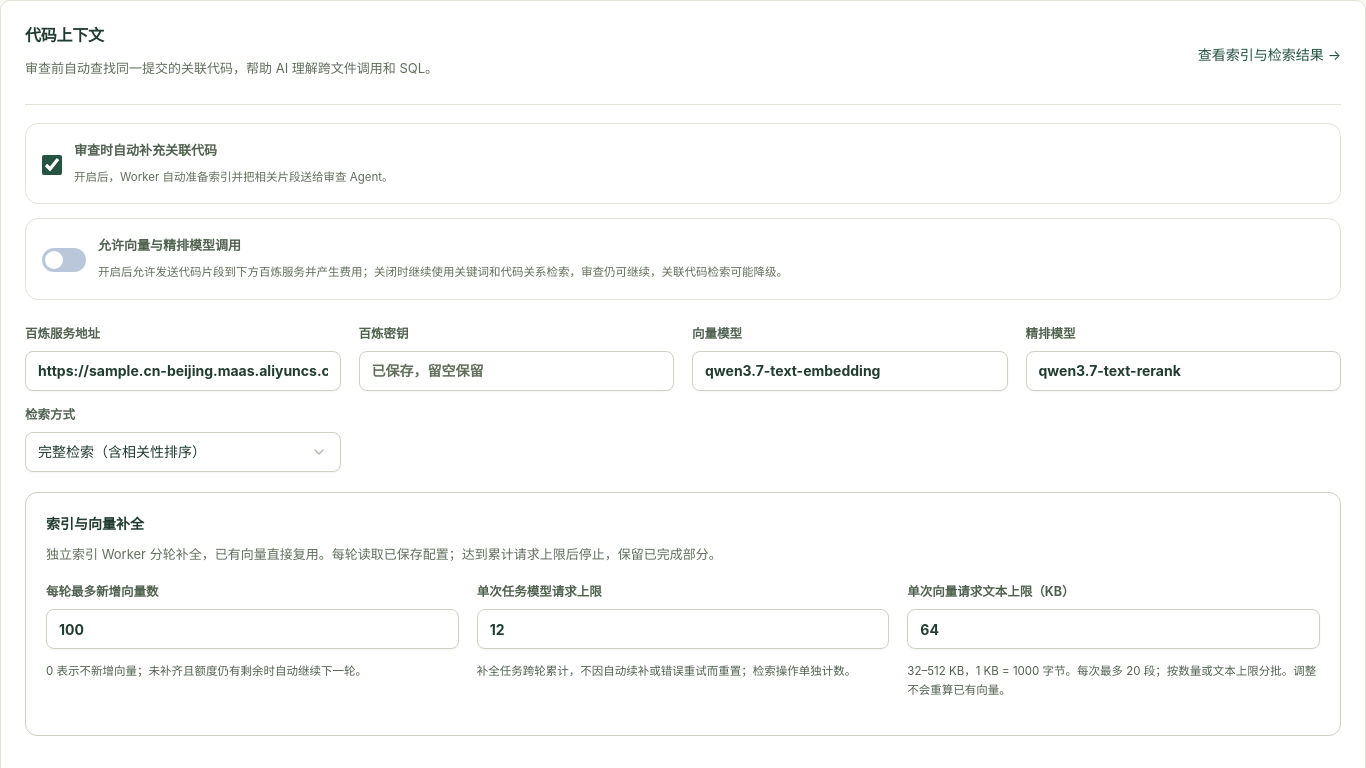
it: 页面开关保存明确的开启值，不再依赖服务器默认暂停
Step 1. Click the switch → (64, 260), box [42,248,86,272]
(page scrolled)
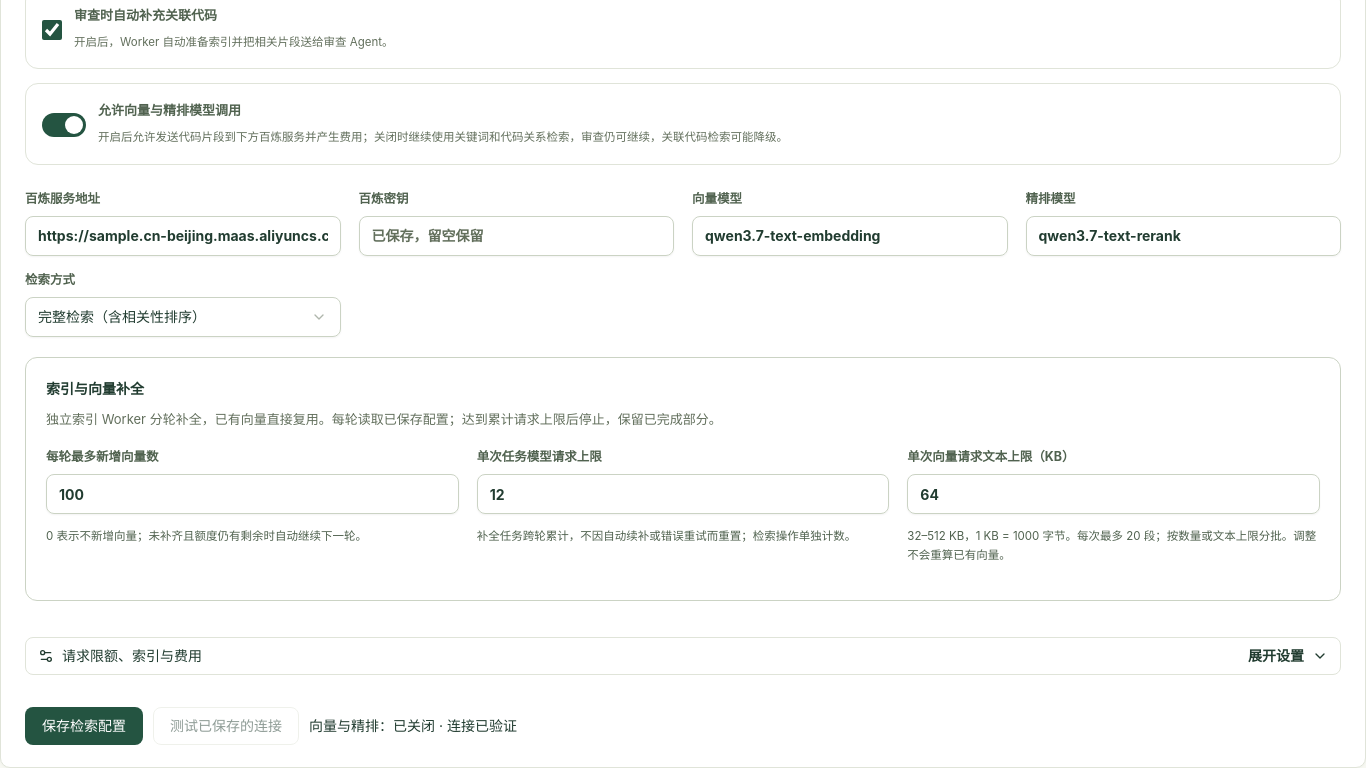
Step 2. Click the button "保存检索配置" → (84, 726), box [25,707,143,745]
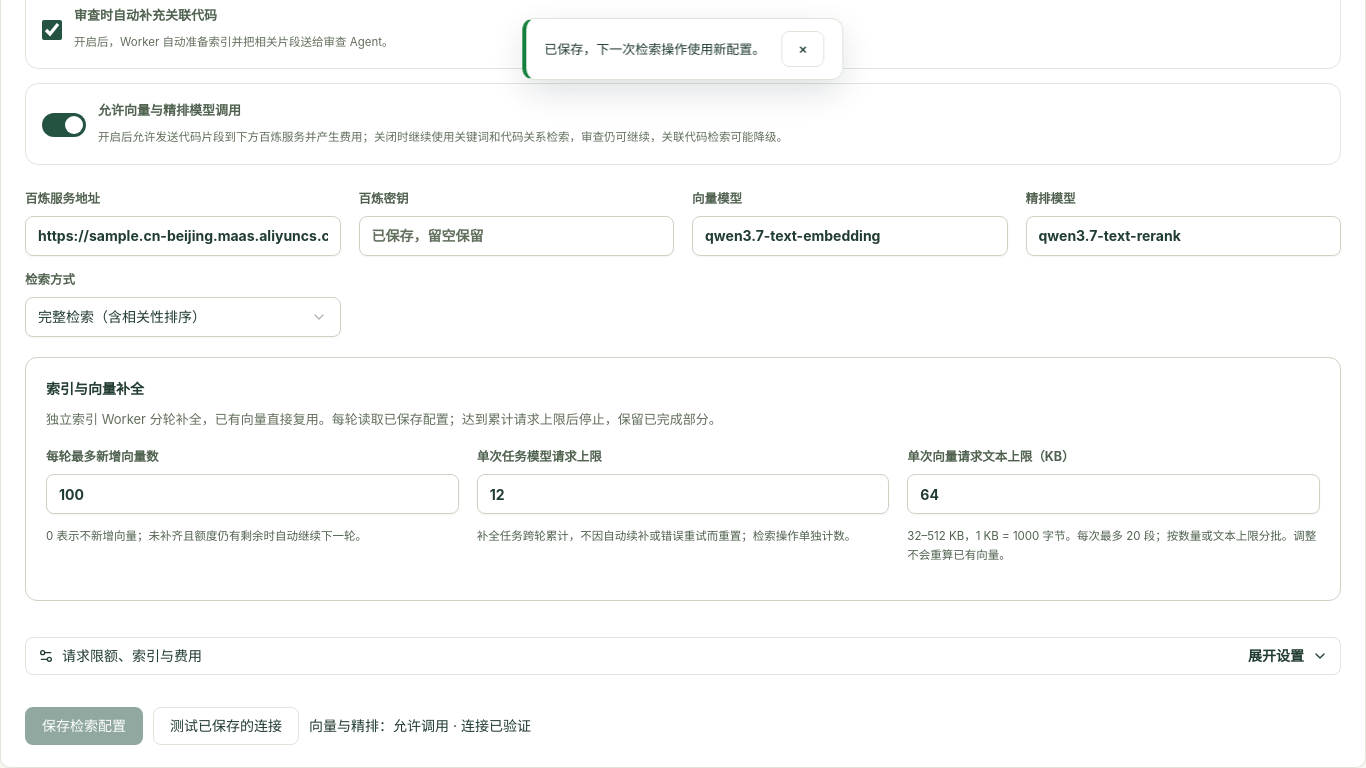
expect the text "向量与精排：允许调用 · 连接已验证" is shown: met, box [309,715,531,737]
